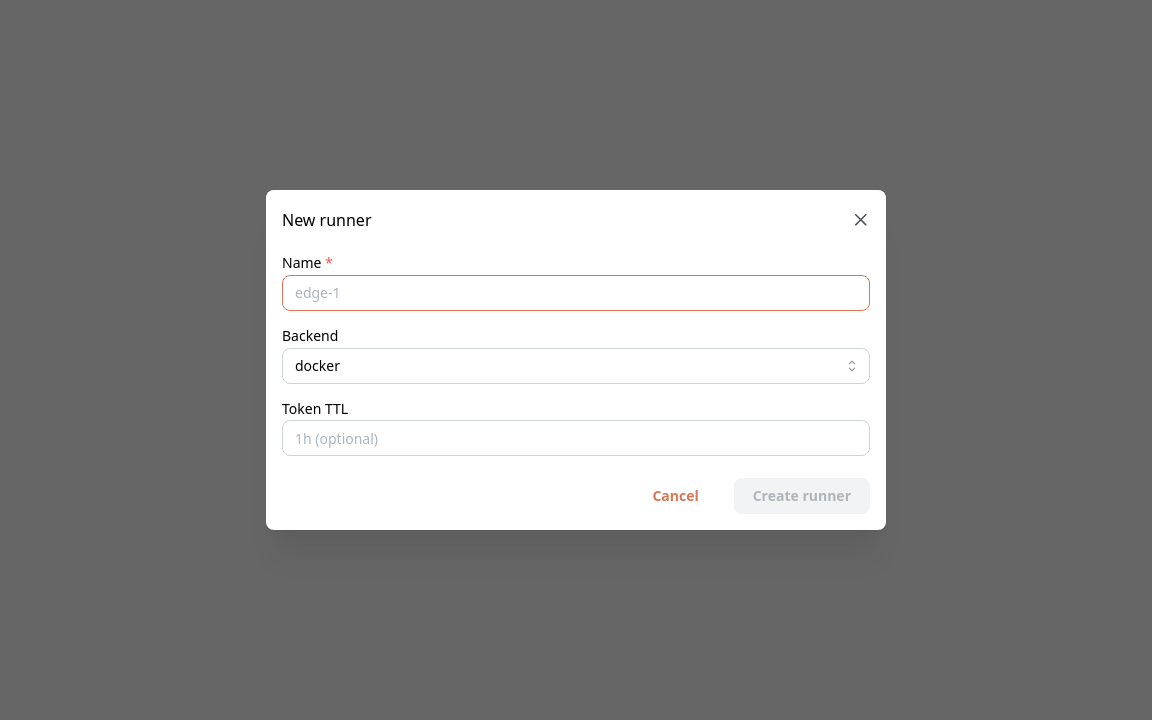
CreateSpokeModal › enrolls a spoke and shows the one-time command
Step 1. Type "edge-9" into the field with placeholder "edge-1" → [576, 293], box [282,275,870,311]
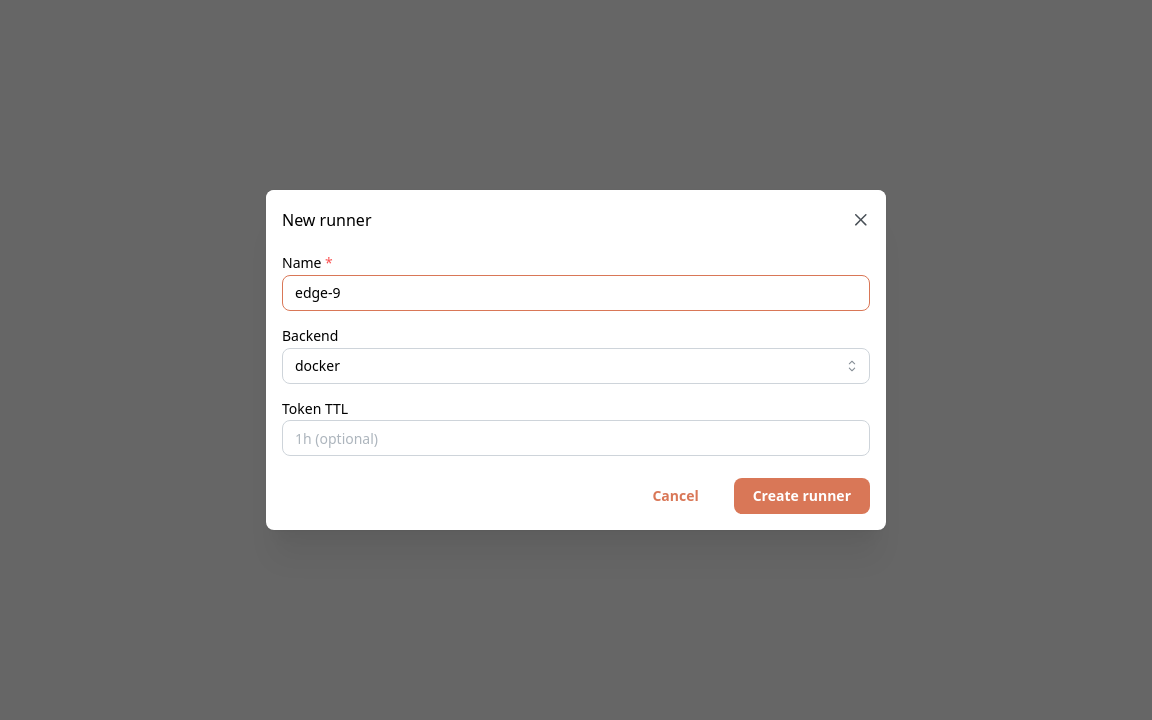
Step 2. Click the button "Create runner" → [802, 496], box [734,478,870,514]
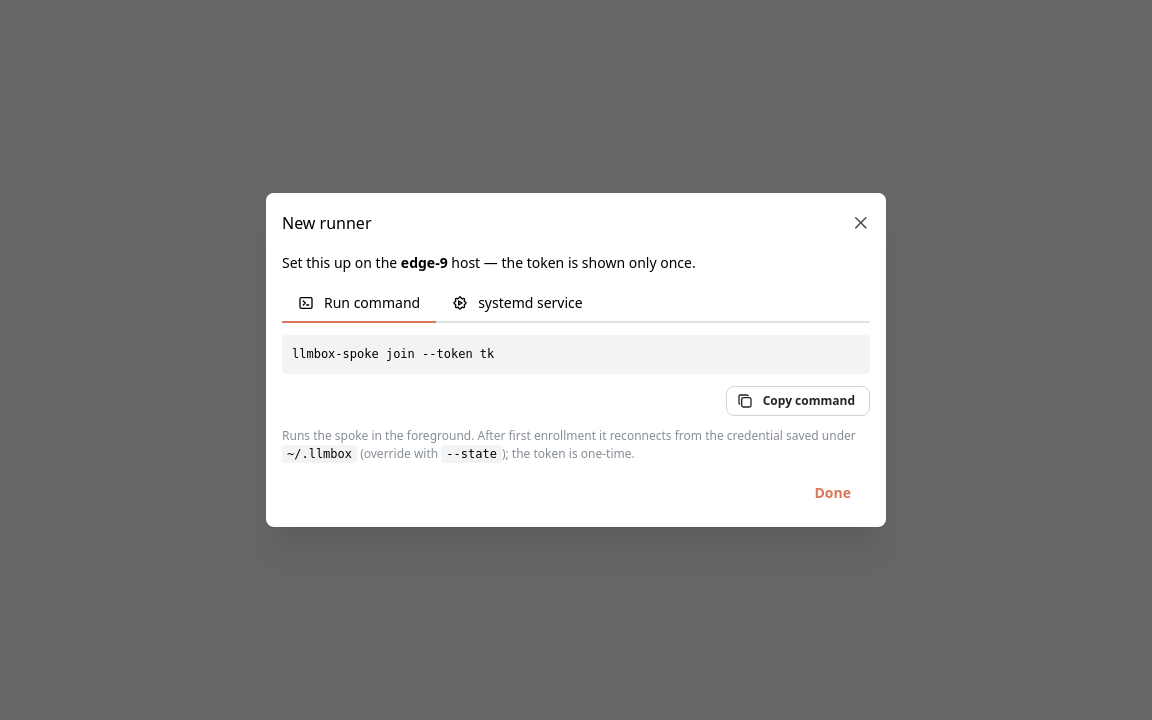
Now the text "llmbox-spoke join --token tk" is shown, box [282,335,870,374]
